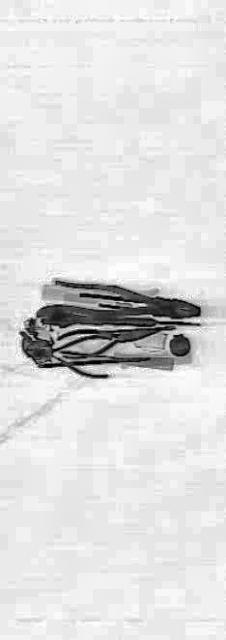Pliers: (36, 278, 201, 330), (55, 314, 159, 364), (38, 325, 108, 379)
